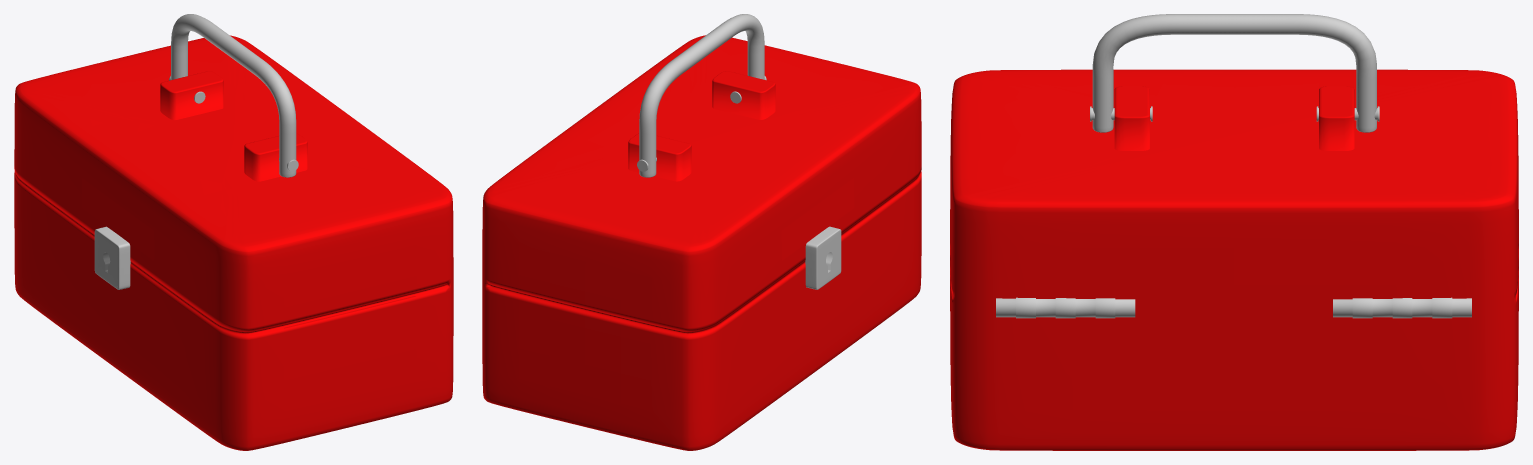
Rendered from vintage_toolbox.glb.
3 views of the same model, side by side, from view 1: azimuth 30°, elevation 25°; view 2: azimuth 150°, elevation 25°; view 3: azimuth 270°, elevation 25° (orthographic). The views are drawn at different scales.
Visible parts, largest first — view 1: Cube, Curva Bezier, Cube.001, Cubo; view 2: Cube, Curva Bezier, Cube.001, Cubo; view 3: Cube, Curva Bezier, Cilindro.003, Cilindro.002.
Part boxes in pixels (left/top/right/bottom): Cube: left=14, top=35, right=453, bottom=450; Curva Bezier: left=171, top=14, right=296, bottom=177; Cube.001: left=82, top=178, right=154, bottom=260; Cubo: left=94, top=226, right=130, bottom=289; Cube: left=482, top=35, right=921, bottom=450; Curva Bezier: left=639, top=14, right=764, bottom=177; Cube.001: left=781, top=178, right=854, bottom=260; Cubo: left=805, top=226, right=841, bottom=289; Cube: left=950, top=69, right=1518, bottom=450; Curva Bezier: left=1092, top=14, right=1376, bottom=132; Cilindro.003: left=996, top=297, right=1135, bottom=318; Cilindro.002: left=1333, top=297, right=1471, bottom=318.
Bounding box in the file's own units: 0.7257 × 0.8481 × 1.18.
